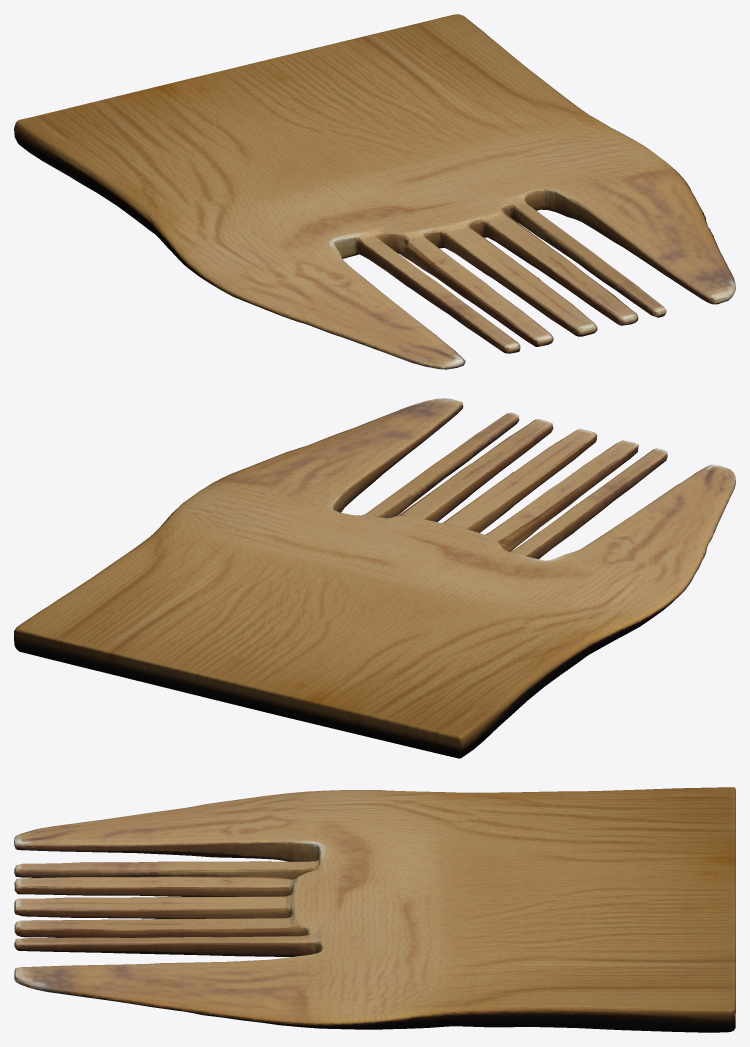
File: wooden-fork-vintage.jpeg.glb
The picture shows the model from 3 angles, top to bottom: view 1: azimuth 30°, elevation 25°; view 2: azimuth 150°, elevation 25°; view 3: azimuth 270°, elevation 25°; orthographic projection. The views are drawn at different scales.
Parts seen in each view (by area): view 1: world; view 2: world; view 3: world.
Boxes of the visible parts, bbox=[...] form: world: bbox=[14, 14, 735, 369]; world: bbox=[14, 398, 735, 758]; world: bbox=[14, 787, 735, 1032].
Size of the model in its own units: 0.7673 by 0.0368 by 1.
1 material, 1 textured.
